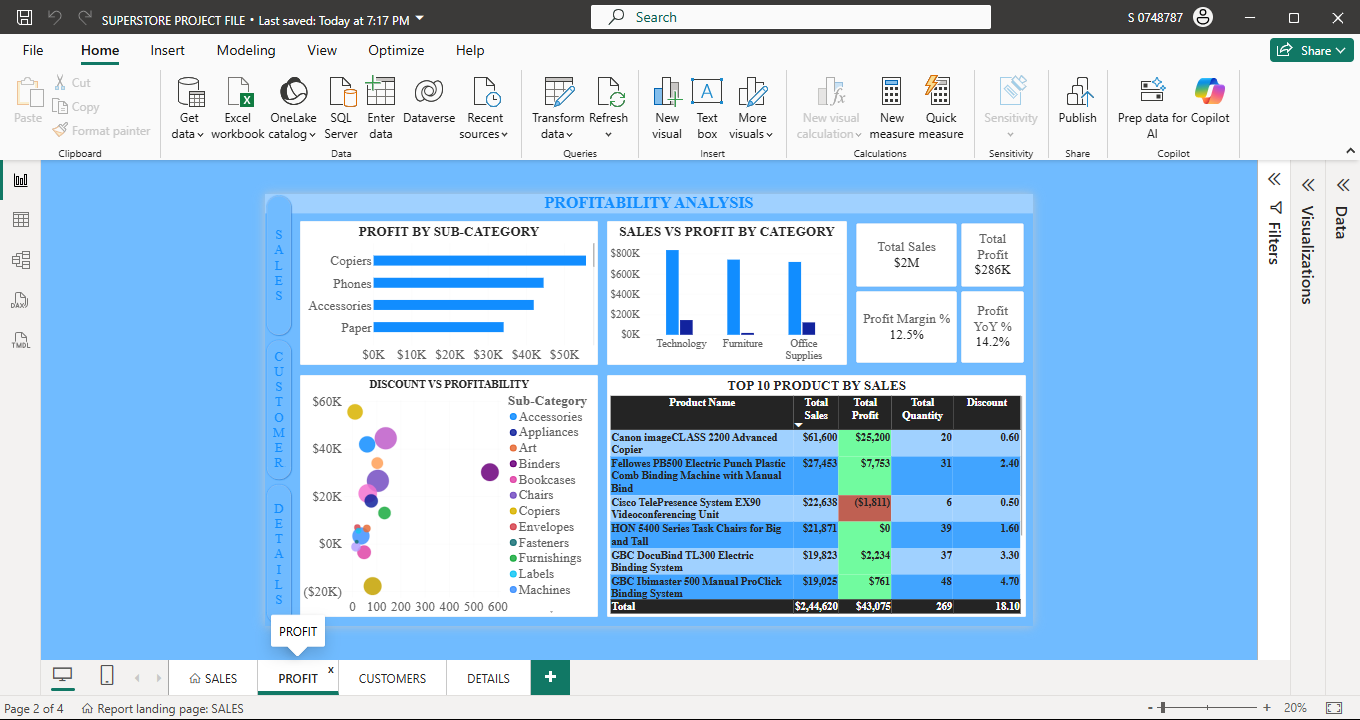

The page's visual inventory and layout, read from the dashboard file:
{"tool":"powerbi","page":{"name":"PROFIT","canvas":[3840,2160],"ordinal":1},"visuals":[{"type":"textbox","box":[0,0,3840,96.5],"z":0},{"type":"clusteredBarChart","title":"PROFIT BY SUB-CATEGORY","fields":{"Category":["Sample - Superstore.Sub-Category"],"Y":["Date.Total Profit"]},"box":[175,135,1490,720],"z":1000},{"type":"scatterChart","title":"DISCOUNT VS PROFITABILITY","fields":{"Series":["Sample - Superstore.Sub-Category"],"Size":["Date.Total Sales"],"X":["Sum(Sample - Superstore.Discount)"],"Y":["Date.Total Profit"]},"box":[175,905,1490,1210],"z":2000},{"type":"lineClusteredColumnComboChart","title":"SALES VS PROFIT BY CATEGORY","fields":{"Category":["Sample - Superstore.Category"],"Y":["Date.Total Sales","Date.Total Profit"]},"box":[1710,135,1200,720],"z":3000},{"type":"tableEx","title":"TOP 10 PRODUCT BY SALES","fields":{"Values":["Sample - Superstore.Product Name","Date.Total Sales","Date.Total Profit","Date.Total Quantity","Sum(Sample - Superstore.Discount)"]},"box":[1710,905,2095,1210],"z":4000},{"type":"cardVisual","fields":{"Data":["Date.Total Sales"]},"box":[2945,135,525,340],"z":5000},{"type":"cardVisual","fields":{"Data":["Date.Total Profit"]},"box":[3470,135,335,340],"z":6000},{"type":"cardVisual","title":"Profit YoY%","fields":{"Data":["Date.Profit YoY %"]},"box":[3470,475,335,380],"z":7000},{"type":"cardVisual","fields":{"Data":["Date.Profit Margin %"]},"box":[2945,475,525,380],"z":8000},{"type":"pageNavigator","box":[0,0,140,2160],"z":9000}]}

Visuals, with their boxes on the page's 3840x2160 design canvas (x1, y1, x2, y2). These are canvas units, not pixel positions in the 1360x720 screenshot, which may show the page scaled, cropped or inside an application window:
textbox: {"x1": 0, "y1": 0, "x2": 3840, "y2": 96}
"PROFIT BY SUB-CATEGORY" clusteredBarChart: {"x1": 175, "y1": 135, "x2": 1665, "y2": 855}
"DISCOUNT VS PROFITABILITY" scatterChart: {"x1": 175, "y1": 905, "x2": 1665, "y2": 2115}
"SALES VS PROFIT BY CATEGORY" lineClusteredColumnComboChart: {"x1": 1710, "y1": 135, "x2": 2910, "y2": 855}
"TOP 10 PRODUCT BY SALES" tableEx: {"x1": 1710, "y1": 905, "x2": 3805, "y2": 2115}
cardVisual - Date.Total Sales: {"x1": 2945, "y1": 135, "x2": 3470, "y2": 475}
cardVisual - Date.Total Profit: {"x1": 3470, "y1": 135, "x2": 3805, "y2": 475}
"Profit YoY%" cardVisual: {"x1": 3470, "y1": 475, "x2": 3805, "y2": 855}
cardVisual - Date.Profit Margin %: {"x1": 2945, "y1": 475, "x2": 3470, "y2": 855}
pageNavigator: {"x1": 0, "y1": 0, "x2": 140, "y2": 2160}
